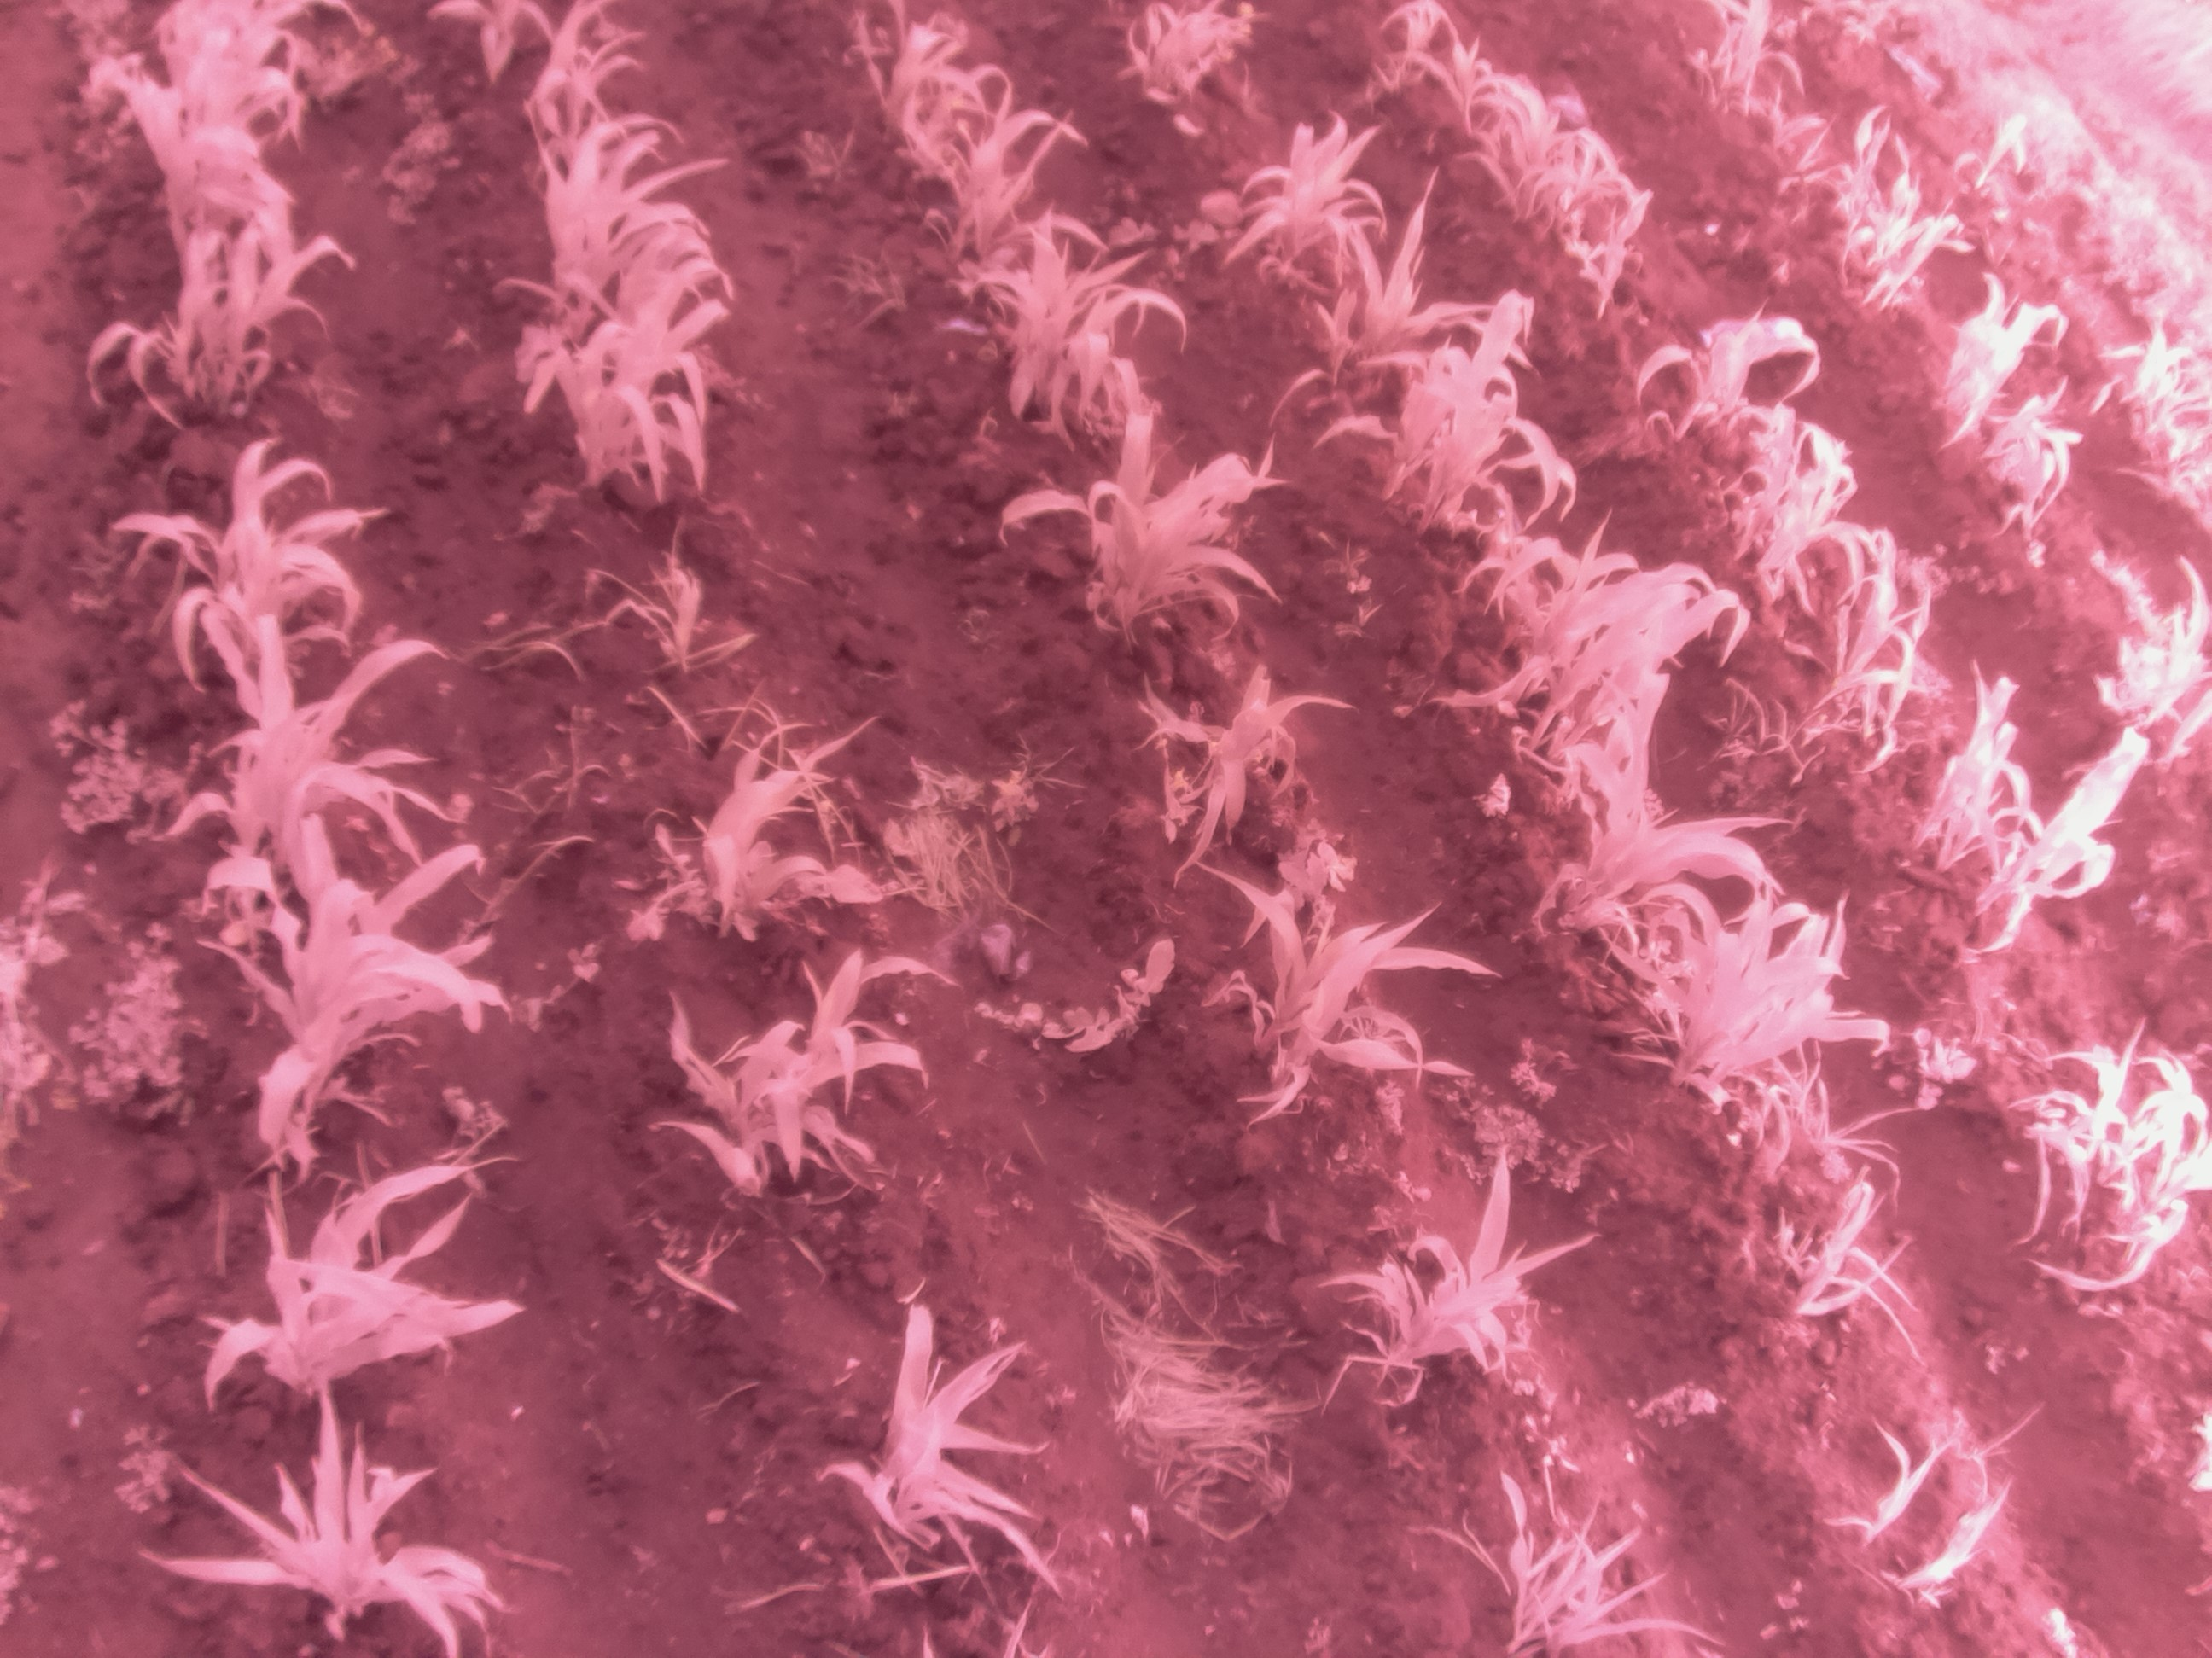Maiz: (1151, 846, 1503, 1111), (176, 873, 528, 1134), (153, 1176, 547, 1405), (625, 953, 993, 1198), (117, 1433, 503, 1658), (815, 1306, 1080, 1621), (998, 401, 1289, 655), (87, 455, 385, 693), (176, 625, 448, 876), (629, 707, 907, 946), (1318, 1163, 1597, 1399), (1524, 742, 1791, 982), (1561, 521, 1771, 812), (92, 190, 354, 421), (1653, 880, 1892, 1123), (1440, 1449, 1705, 1658), (507, 113, 719, 361), (535, 256, 726, 505), (1324, 169, 1491, 451), (1804, 493, 1947, 817), (1127, 662, 1348, 866), (1435, 280, 1569, 576), (1630, 284, 1824, 488), (1752, 1148, 1937, 1351), (99, 61, 280, 268), (1986, 718, 2148, 946), (961, 209, 1137, 413), (1501, 491, 1625, 772), (1224, 106, 1407, 289), (1735, 383, 1860, 627), (909, 57, 1066, 251), (1926, 655, 2038, 921), (1068, 244, 1198, 441), (519, 2, 648, 197), (1381, 313, 1489, 535), (859, 9, 1000, 178), (1120, 0, 1266, 160), (2094, 535, 2212, 731), (1796, 1416, 1979, 1531), (2132, 1054, 2210, 1318), (162, 2, 275, 172), (1942, 277, 2057, 441), (601, 545, 735, 681), (1862, 1500, 2031, 1606), (1991, 378, 2107, 531), (1475, 80, 1590, 235), (2055, 1014, 2125, 1231), (1829, 101, 1923, 259), (1418, 24, 1529, 155), (1568, 165, 1656, 324), (1871, 183, 1982, 305), (1540, 106, 1620, 265), (1724, 0, 1804, 145), (2094, 289, 2188, 411), (1952, 85, 2029, 223), (1860, 145, 1933, 277), (2163, 329, 2212, 522), (1761, 82, 1843, 188), (1372, 0, 1453, 108)
